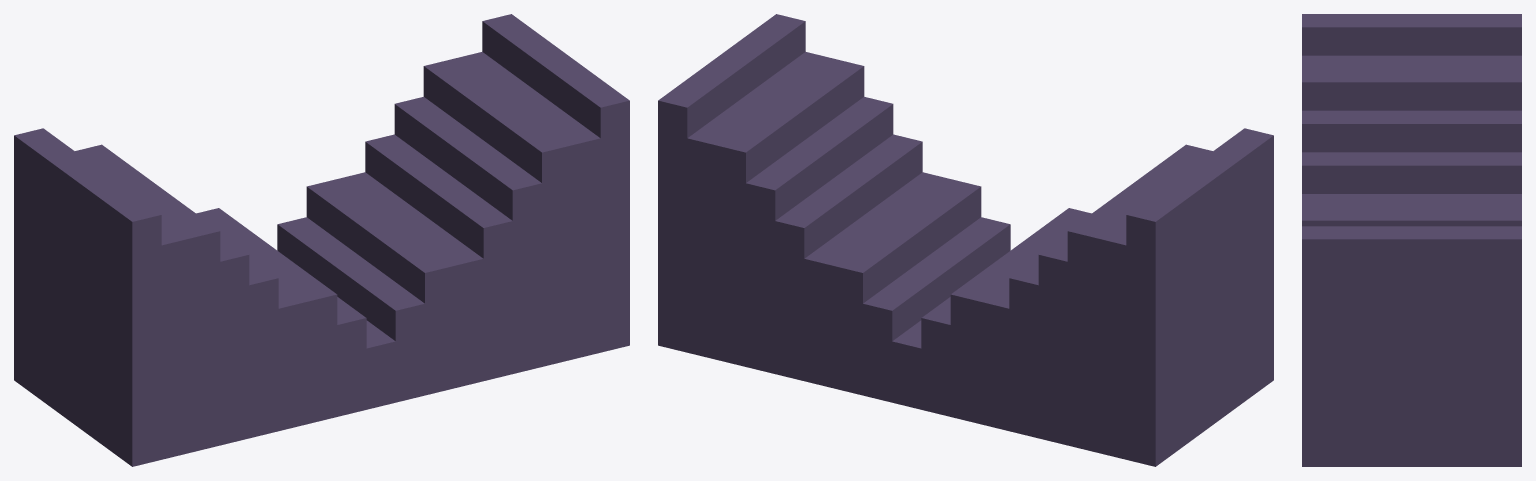
The model's file is alien-biosphere-mineral-saddle-3b92b6e3__22751.glb.
The picture shows the model from 3 angles, left to right: view 1: azimuth 30°, elevation 25°; view 2: azimuth 150°, elevation 25°; view 3: azimuth 270°, elevation 25°; orthographic projection. The views are drawn at different scales.
Visible parts, largest first — view 1: mineral-saddle; view 2: mineral-saddle; view 3: mineral-saddle.
Boxes of the visible parts, bbox=[...] form: mineral-saddle: bbox=[14, 14, 629, 466]; mineral-saddle: bbox=[658, 14, 1273, 466]; mineral-saddle: bbox=[1302, 14, 1521, 466].
Size of the model in its own units: 3.4 by 1.6 by 1.4.
